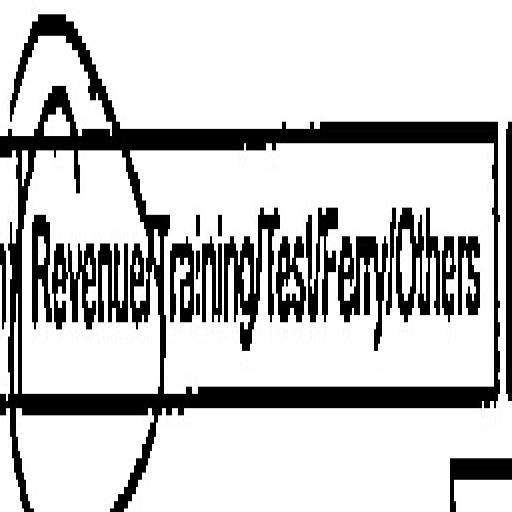check: (8, 24, 148, 512)
